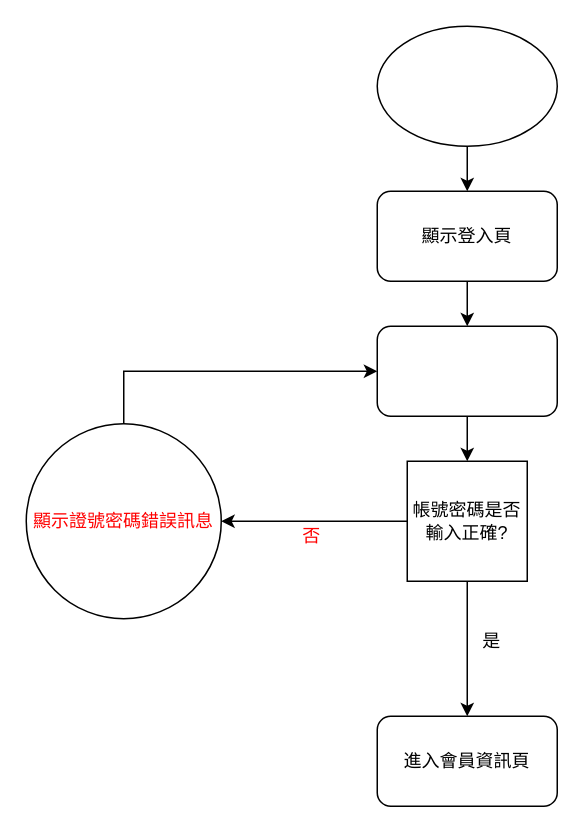
The diagram is 584 pixels wide and 833 high, and some of its shapes have lost their labels. Here are the shapes that lost their labels. From the top down, the centre of each, then its label:
At (x=466, y=85): "會員登入".
At (x=466, y=370): "使用者輸入帳號密碼".
